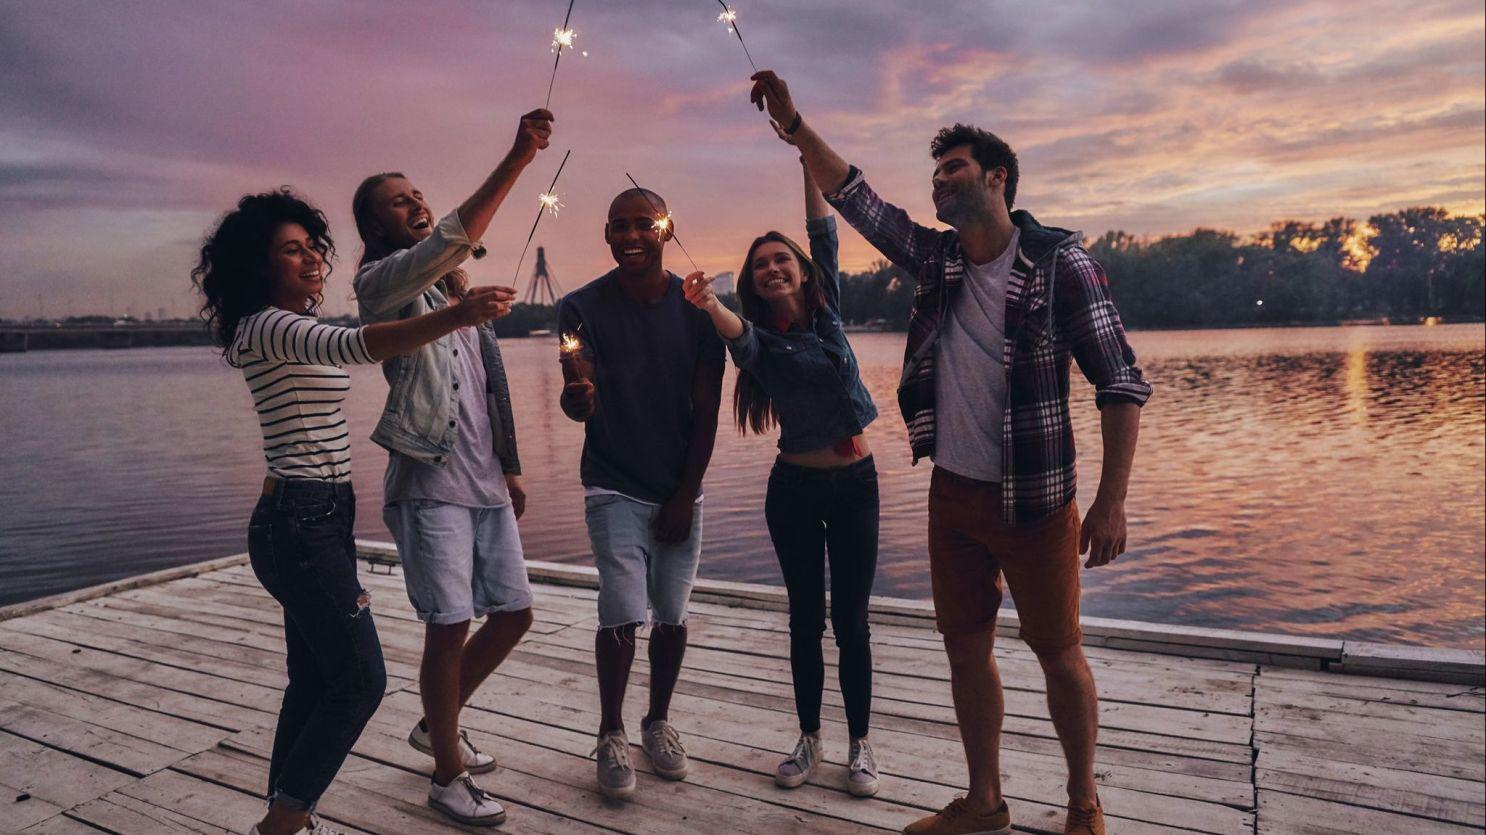Person: (879, 124, 1154, 835), (354, 106, 555, 823), (193, 186, 359, 835), (560, 188, 725, 800), (723, 208, 880, 796)
